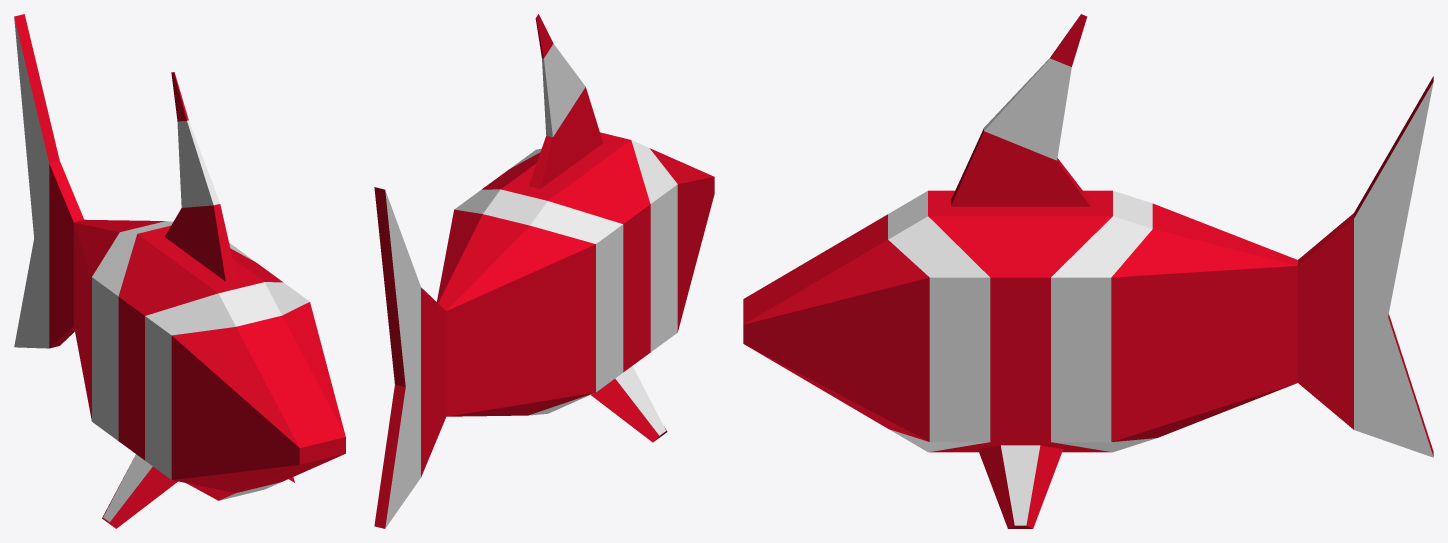
Rendered from Fish.fbx.
3 renders of one model, left to right at view 1: azimuth 30°, elevation 25°; view 2: azimuth 150°, elevation 25°; view 3: azimuth 270°, elevation 25°, orthographic. The views are drawn at different scales.
Parts seen in each view (by area): view 1: Cube; view 2: Cube; view 3: Cube.
Part boxes in pixels (x1,y1,x2,y2): Cube: [14, 14, 345, 528]; Cube: [374, 14, 714, 528]; Cube: [743, 14, 1433, 528].
Size of the model in its own units: 267 by 566 by 760.
